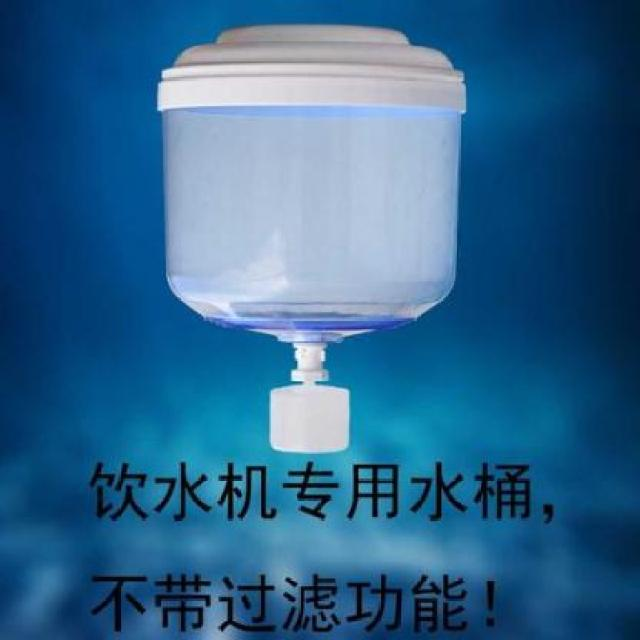coolerbottle: (155, 20, 470, 352)
